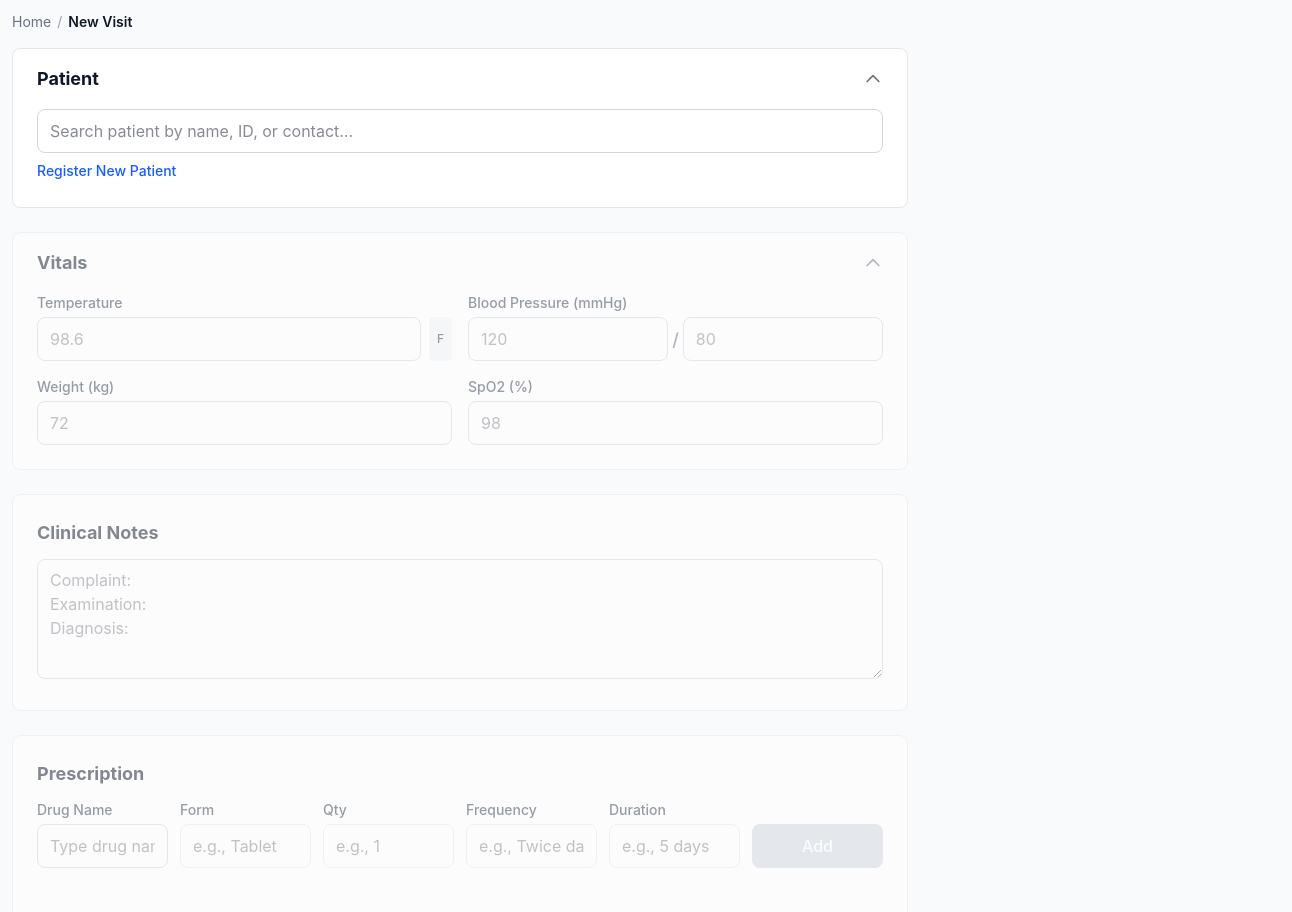
NewVisitPage patient search keyboard navigation › Escape closes patient search dropdown but preserves query and keeps focus on input
Type "Ahmed" into the field with placeholder "Search patient by name, ID, or contact...". click: (460, 131)
box: [37,109,883,153]
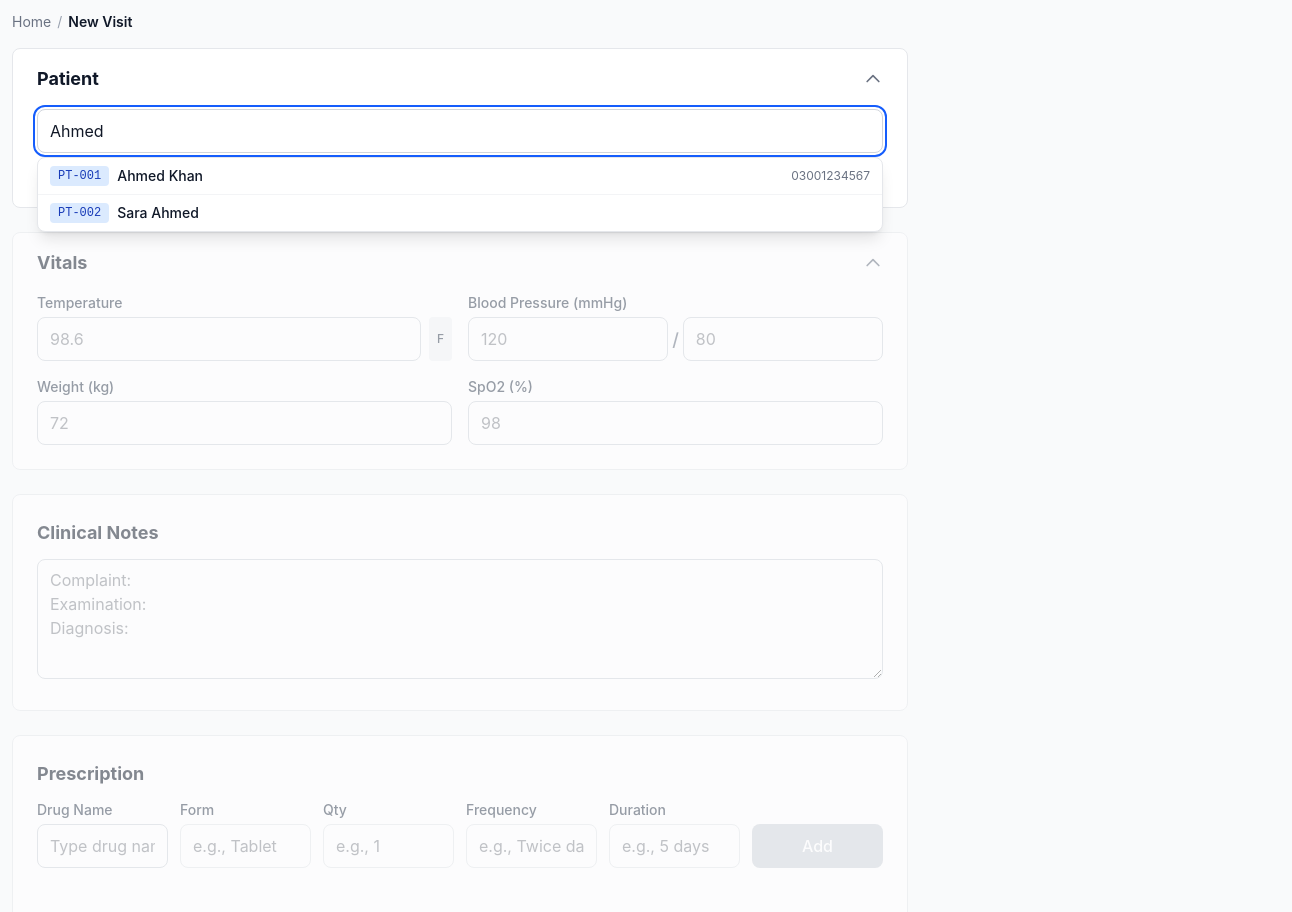
Expected: the text "Ahmed Khan" is shown, [117,166,203,186]
Press Escape
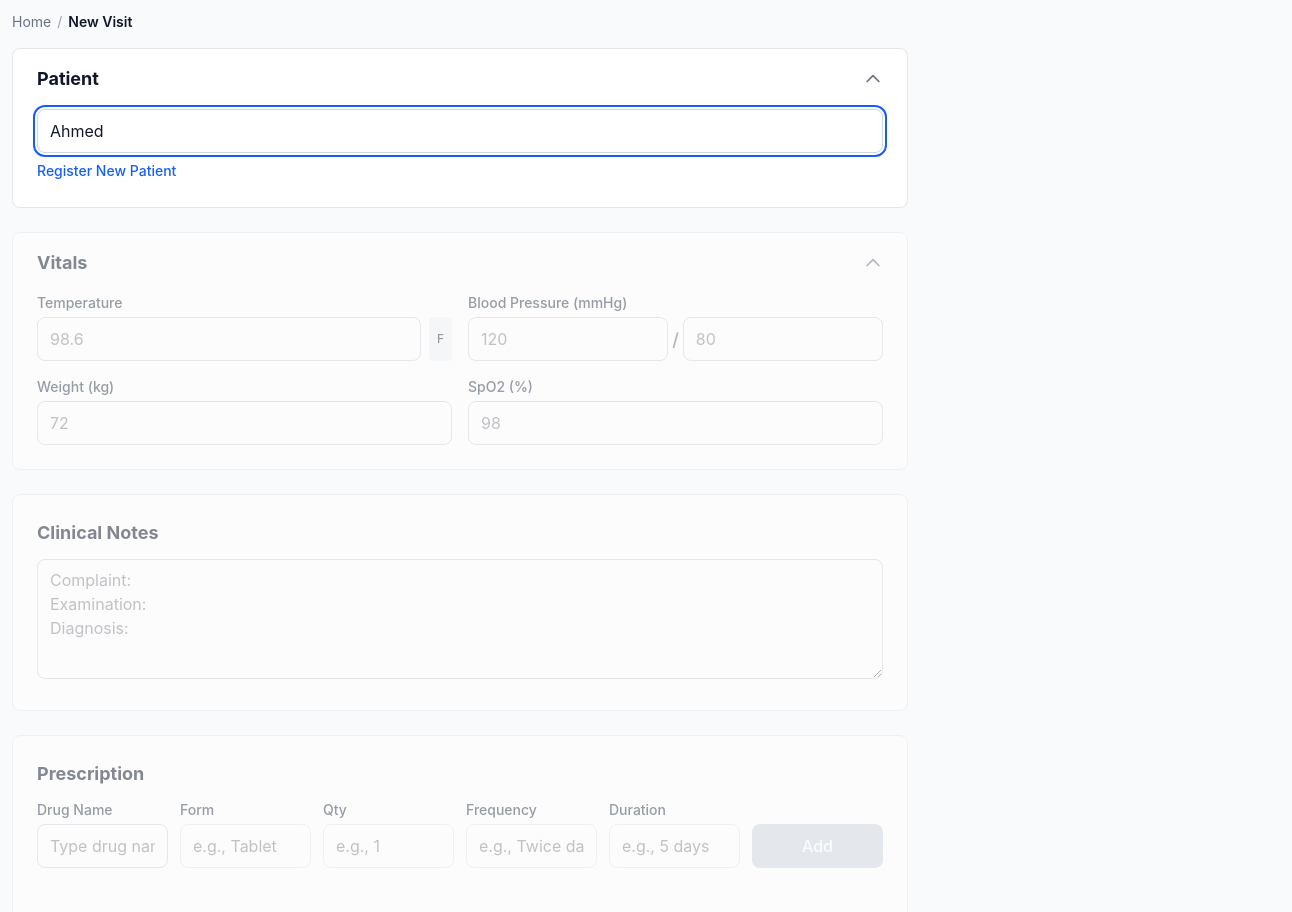
Expected: the button "Ahmed Khan" is gone
